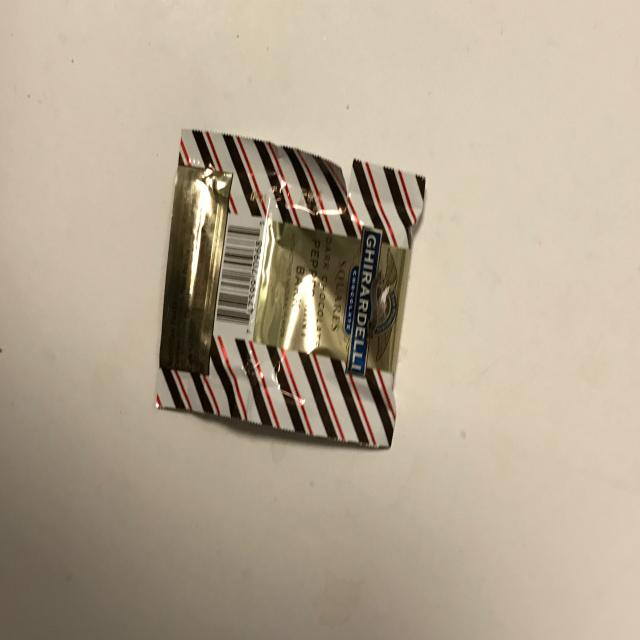trash: (155, 128, 426, 450)
